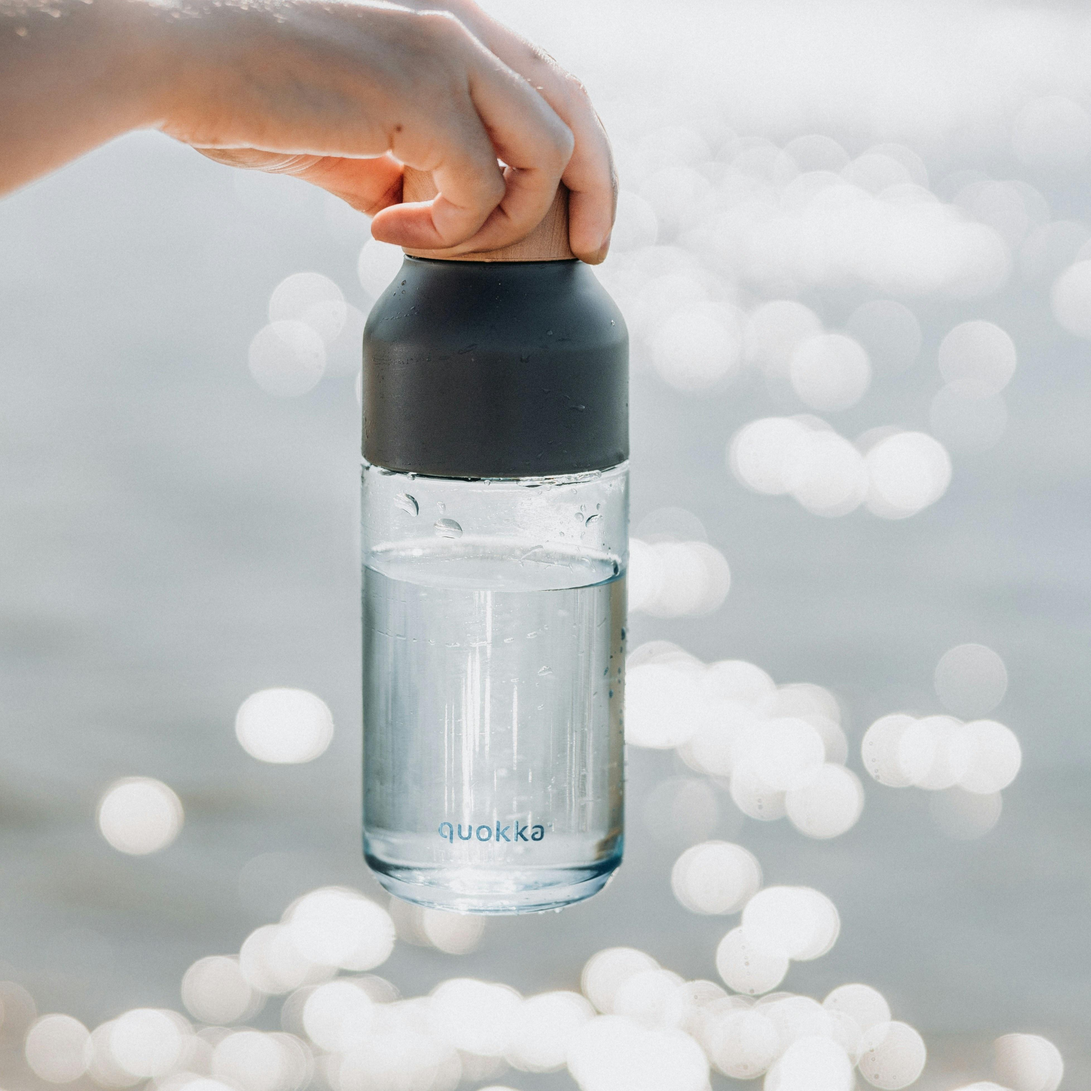Bottle-Detection: (298, 170, 694, 962)
